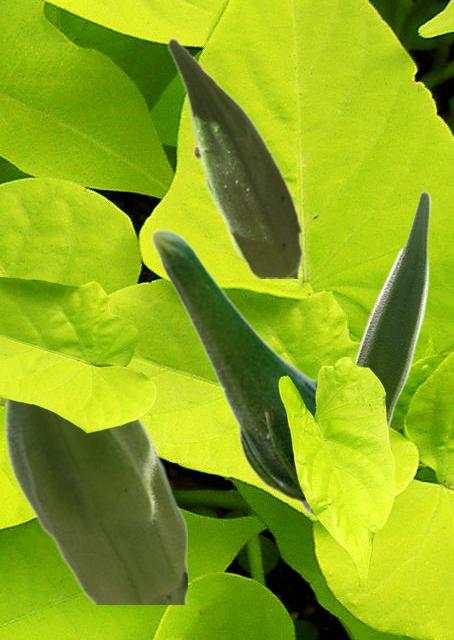okra: (150, 228, 316, 518), (3, 399, 186, 603), (166, 36, 301, 277), (353, 189, 430, 429)
